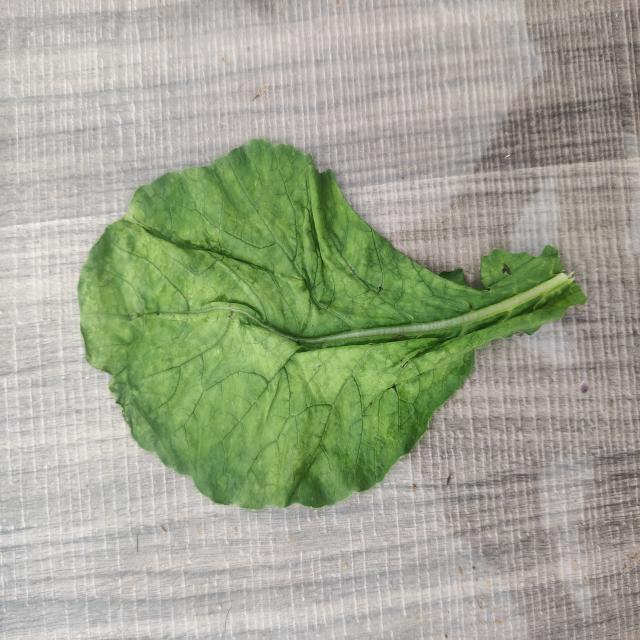raddish: (79, 140, 558, 508)
